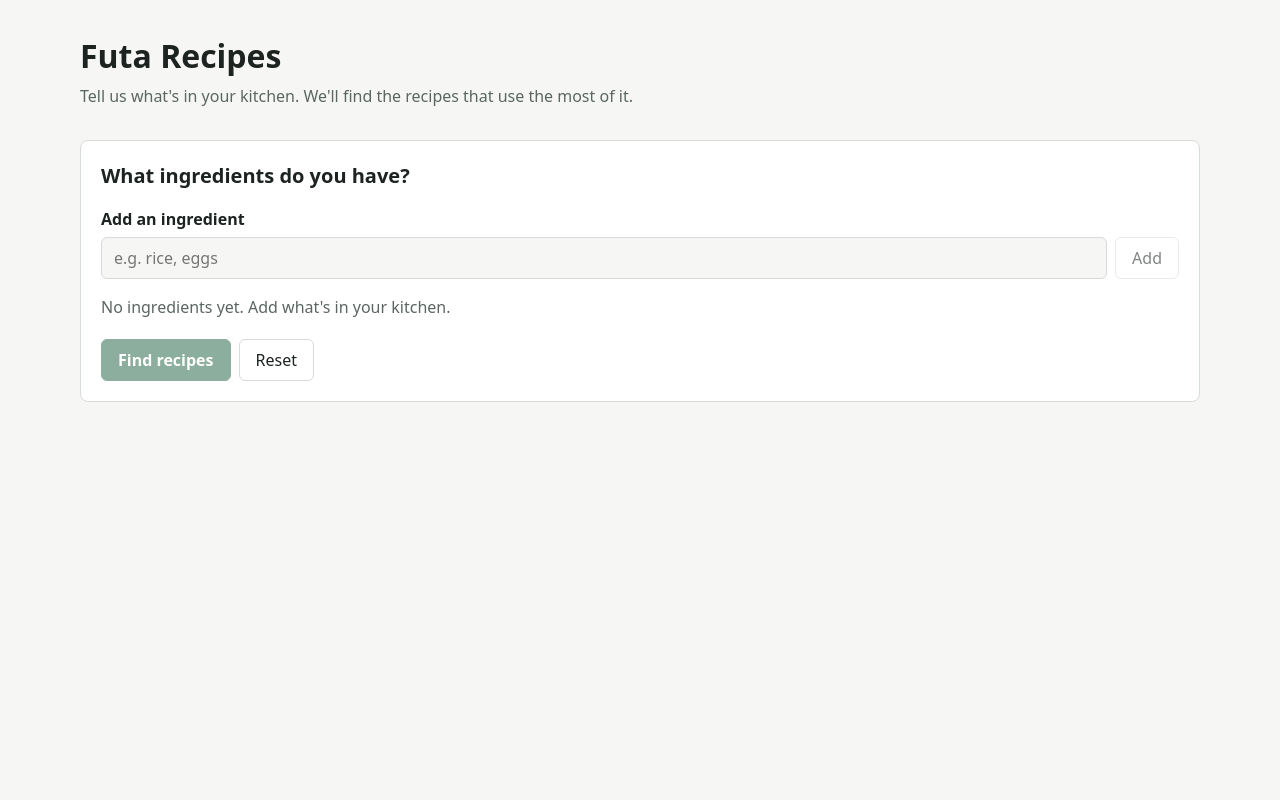
Test: demande la page cliquée et dérive le nombre de pages de total_count (régressions WEB-01, WEB-02)
Type "rice" into the field labelled "Add an ingredient" at (604,258), box [101,237,1107,279]
Then press Enter
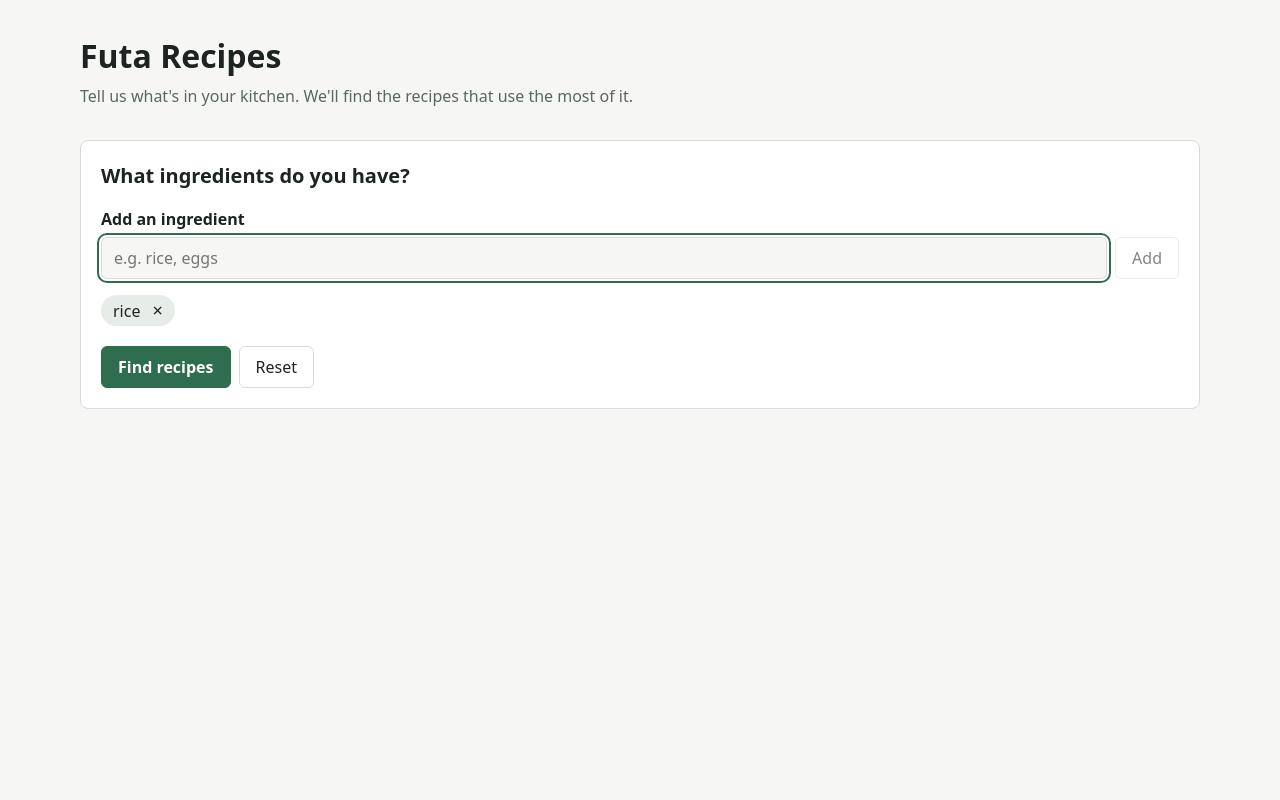
Click the button "Find recipes" at (166,367), box [101,346,230,388]
(page scrolled)
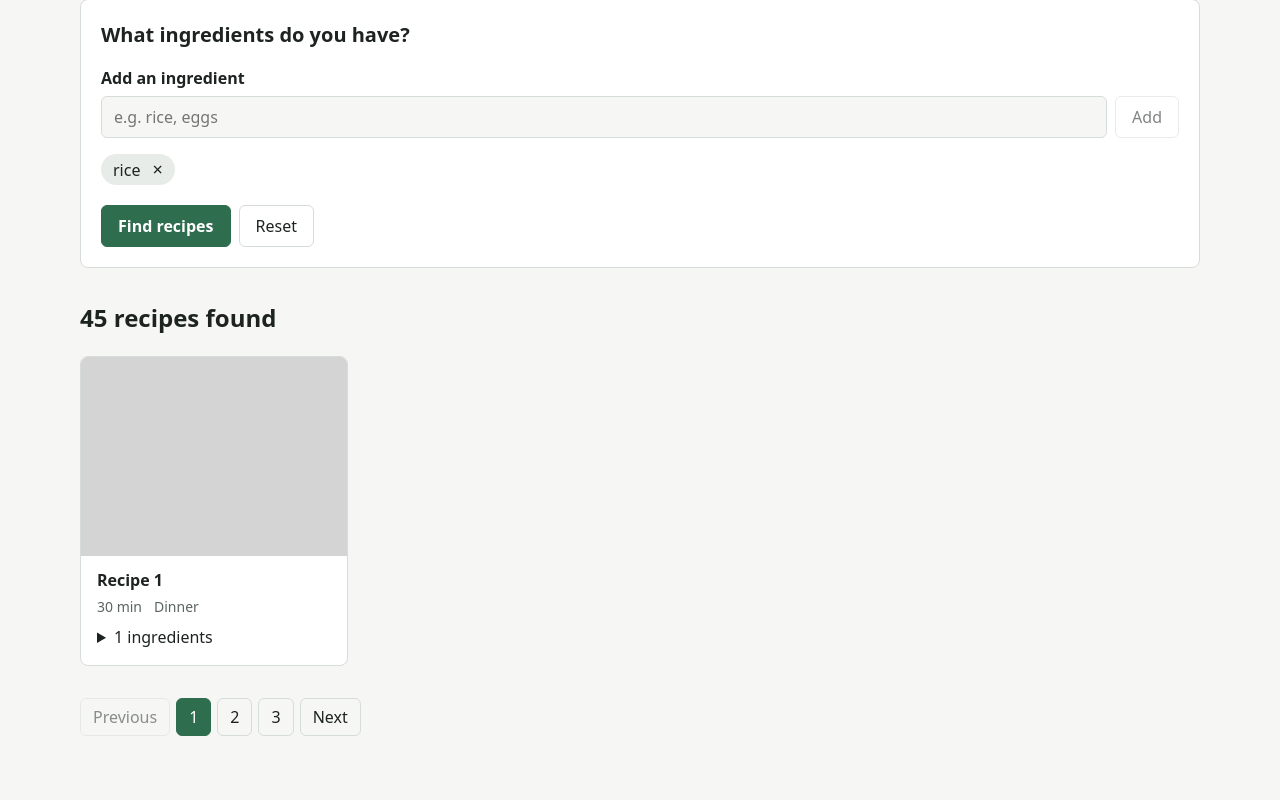
Expected: the heading "45 recipes found" is shown, [80,301,276,334]
Expected: the button named "Page 3" is shown, [258,698,294,736]
Click the button named "Page 2" at (235,717), box [217,698,252,736]
(page scrolled)
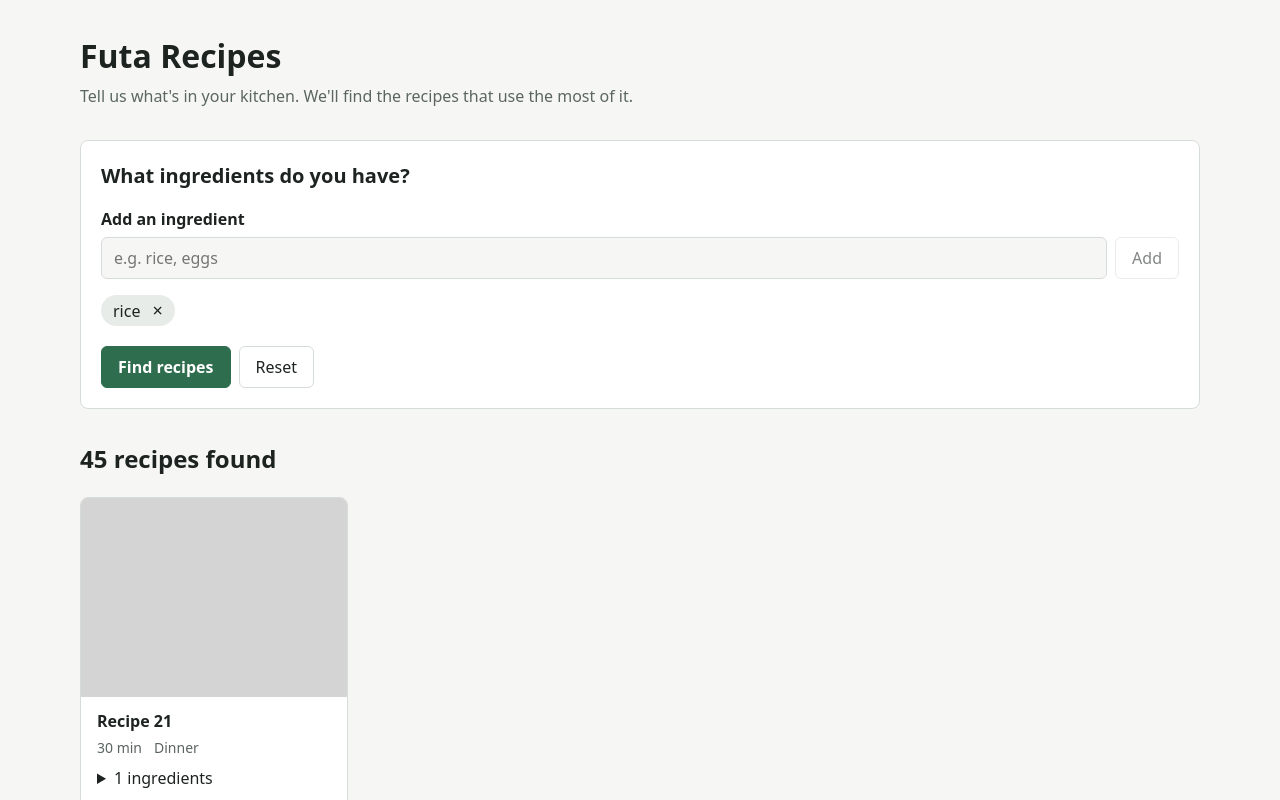
Expected: the heading "Recipe 21" is shown, [97,710,172,732]
